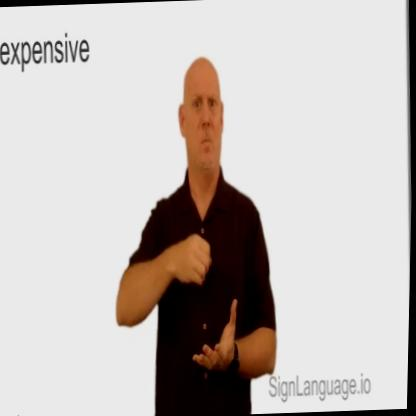Expensive: (105, 53, 287, 416)
